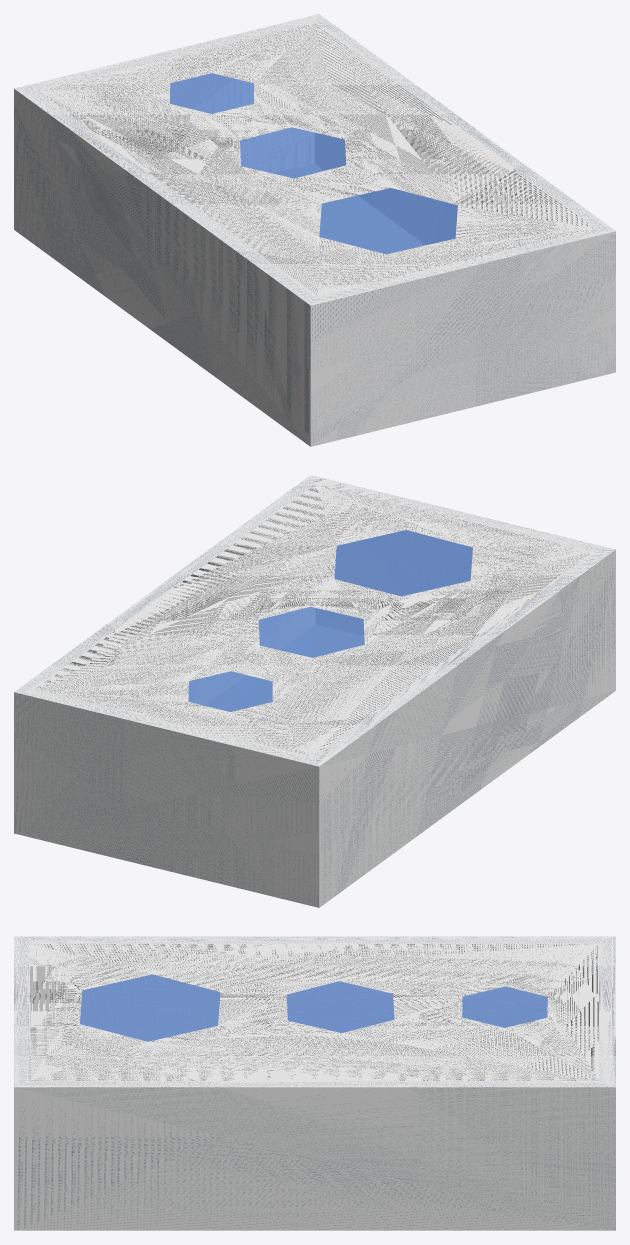
File: SimpleArtRoomPlus.glb
The picture shows the model from 3 angles, top to bottom: view 1: azimuth 30°, elevation 25°; view 2: azimuth 150°, elevation 25°; view 3: azimuth 270°, elevation 25°; orthographic projection.
Visible parts, largest first — view 1: SketchUp.3, SketchUp.005.9, SketchUp.001.5, SketchUp.002.6, SketchUp.003.7, SketchUp.006.10, SketchUp.004.8; view 2: SketchUp.3, SketchUp.005.9, SketchUp.001.5, SketchUp.002.6, SketchUp.003.7, SketchUp.006.10, SketchUp.004.8; view 3: SketchUp.3, SketchUp.005.9, SketchUp.001.5, SketchUp.002.6, SketchUp.003.7, SketchUp.004.8.
Boxes of the visible parts, x1,y1,x2,y2 form: SketchUp.3: (14,14,615,446); SketchUp.005.9: (38,23,594,295); SketchUp.001.5: (170,73,457,244); SketchUp.002.6: (319,188,457,254); SketchUp.003.7: (240,127,345,178); SketchUp.006.10: (273,164,424,253); SketchUp.004.8: (170,73,253,113); SketchUp.3: (14,475,615,907); SketchUp.005.9: (36,484,591,756); SketchUp.001.5: (189,530,472,705); SketchUp.002.6: (334,530,472,596); SketchUp.003.7: (258,606,364,657); SketchUp.006.10: (205,625,364,711); SketchUp.004.8: (188,671,272,711); SketchUp.3: (14,936,615,1230); SketchUp.005.9: (30,944,598,1080); SketchUp.001.5: (80,975,547,1041); SketchUp.002.6: (80,974,220,1041); SketchUp.003.7: (286,981,394,1032); SketchUp.004.8: (462,986,547,1027).
Bounding box in the file's own units: 698 × 309 × 1175.
